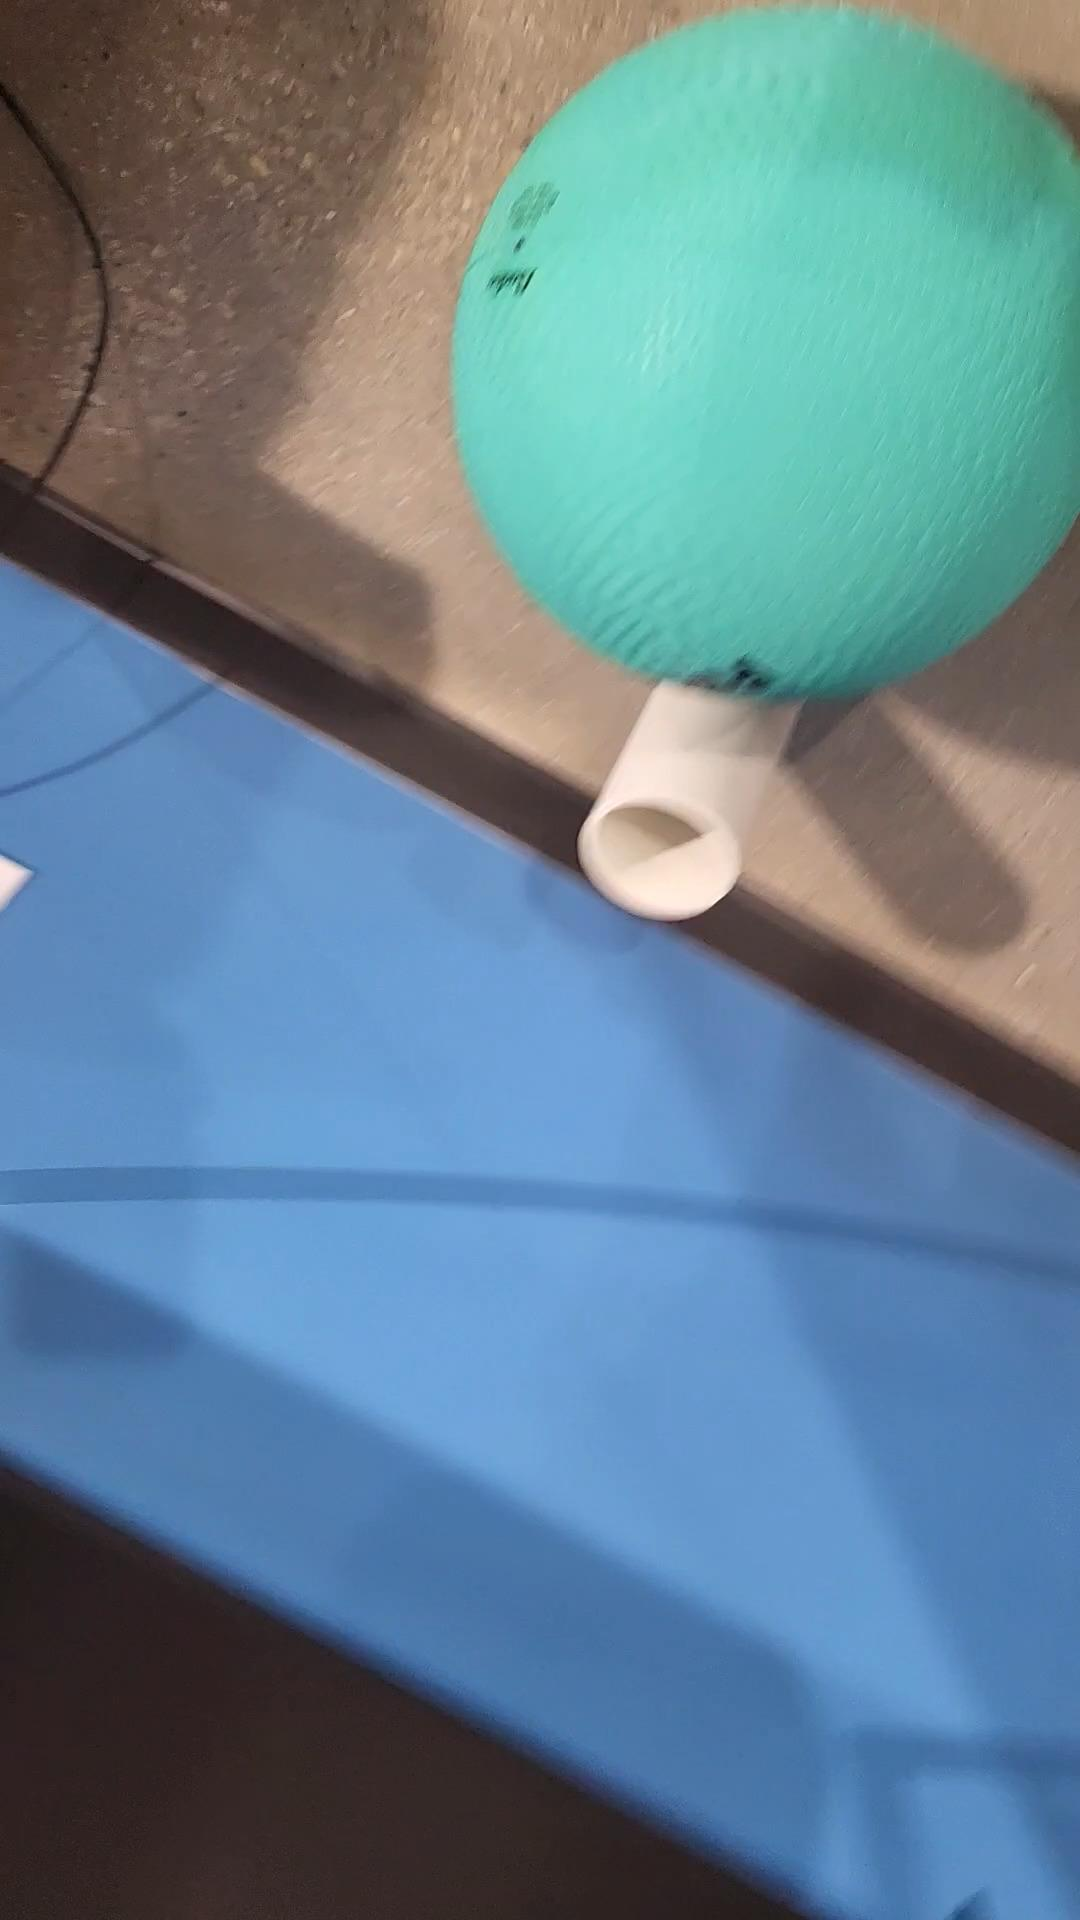algae: (452, 3, 1080, 695)
coral: (572, 680, 804, 915)
